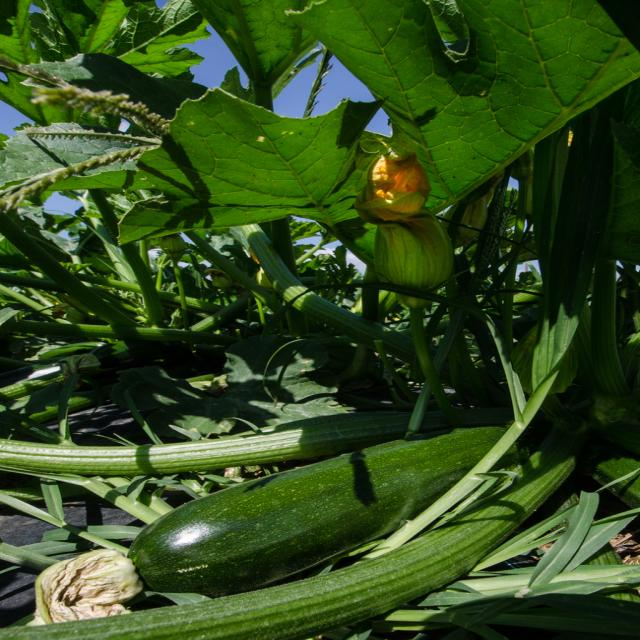Zucchini: (130, 413, 490, 602)
